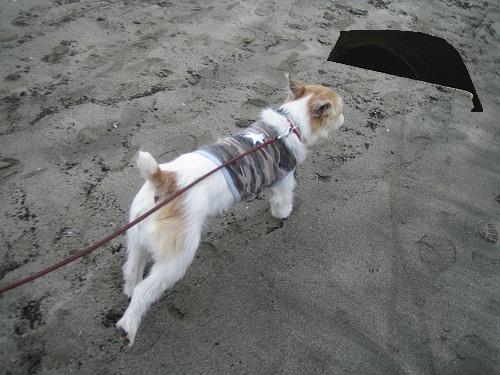tampered: (328, 31, 483, 112)
